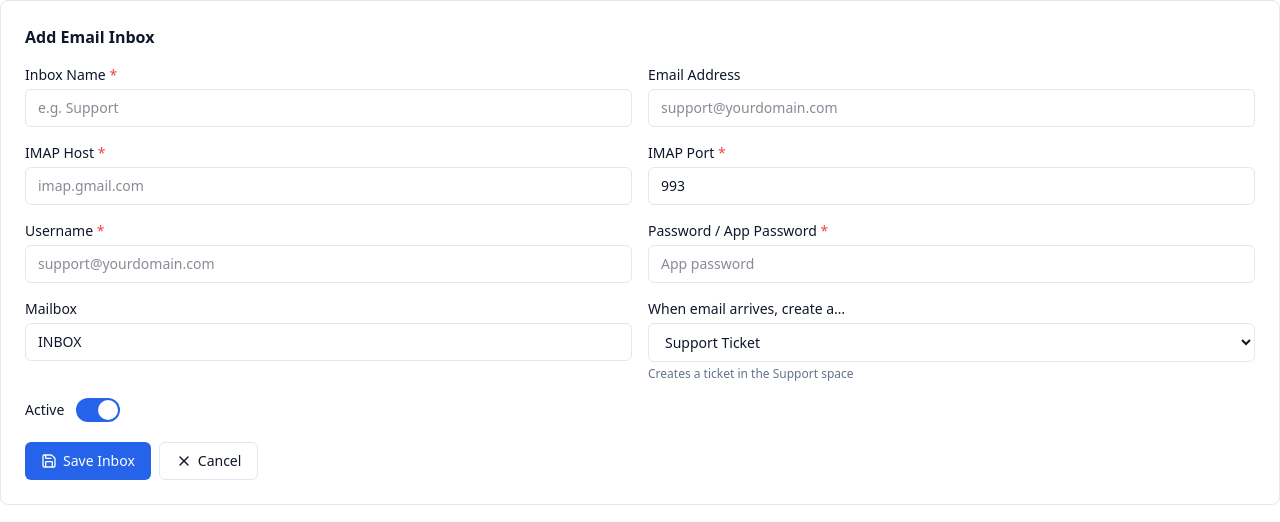
EmailInboxForm › updates routing description when selection changes
Select "Sales Lead" in the dropdown with test id "inbox-routing-action" at (952, 342), box [648,323,1255,362]
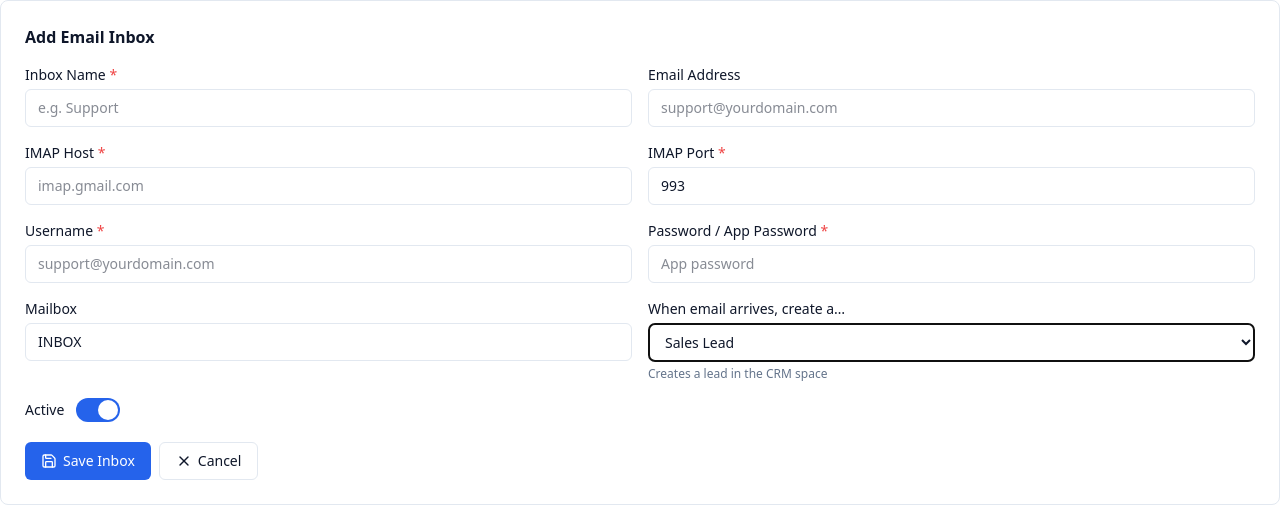
Expected: the text "Creates a lead in the CRM space" is shown, [648,365,827,382]
